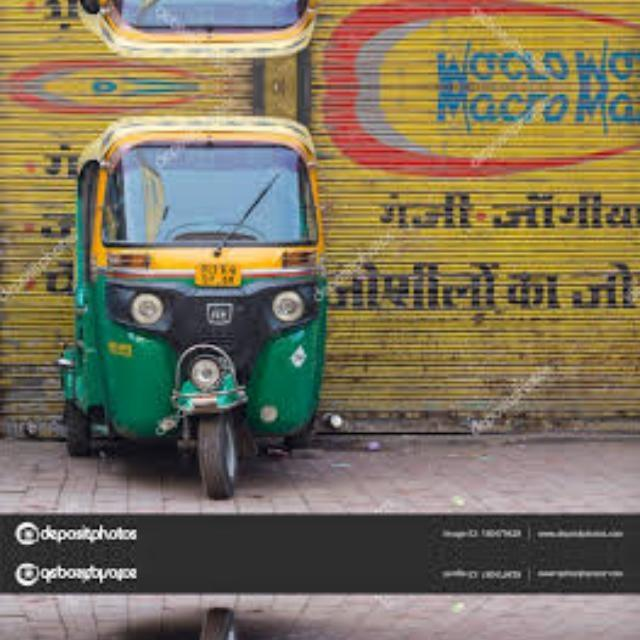person: (54, 96, 344, 504), (54, 0, 344, 76), (54, 602, 344, 640)
